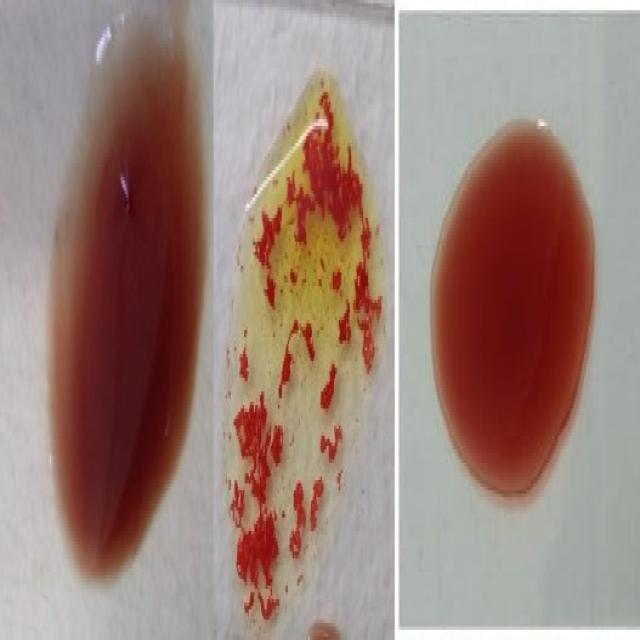B: (228, 50, 375, 630)
